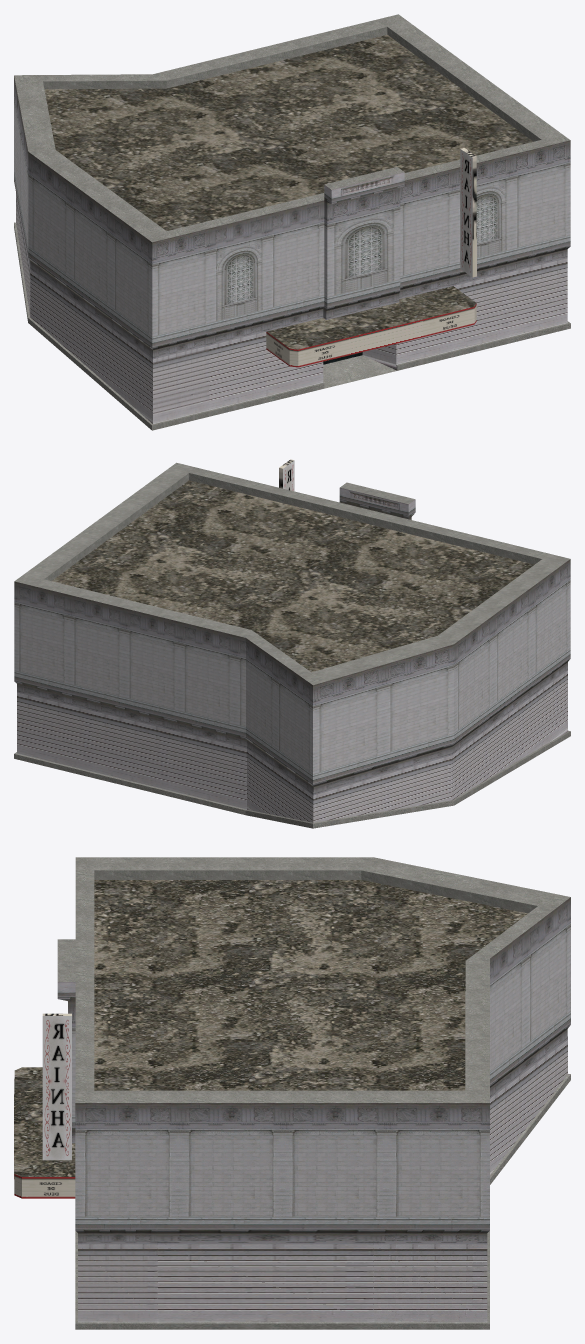
File: queens_03_sfs.obj
3 views of the same model, one above another, from view 1: azimuth 30°, elevation 25°; view 2: azimuth 150°, elevation 25°; view 3: azimuth 270°, elevation 25° (orthographic). The views are drawn at different scales.
Parts seen in each view (by area): view 1: queens_03_SFS; view 2: queens_03_SFS; view 3: queens_03_SFS.
Part boxes in pixels (<box>): queens_03_SFS: <box>14,14,570,430</box>; queens_03_SFS: <box>14,459,570,828</box>; queens_03_SFS: <box>14,857,570,1329</box>.
Size of the model in its own units: 39.02 by 18.51 by 37.34.
10 materials, 10 textured.
